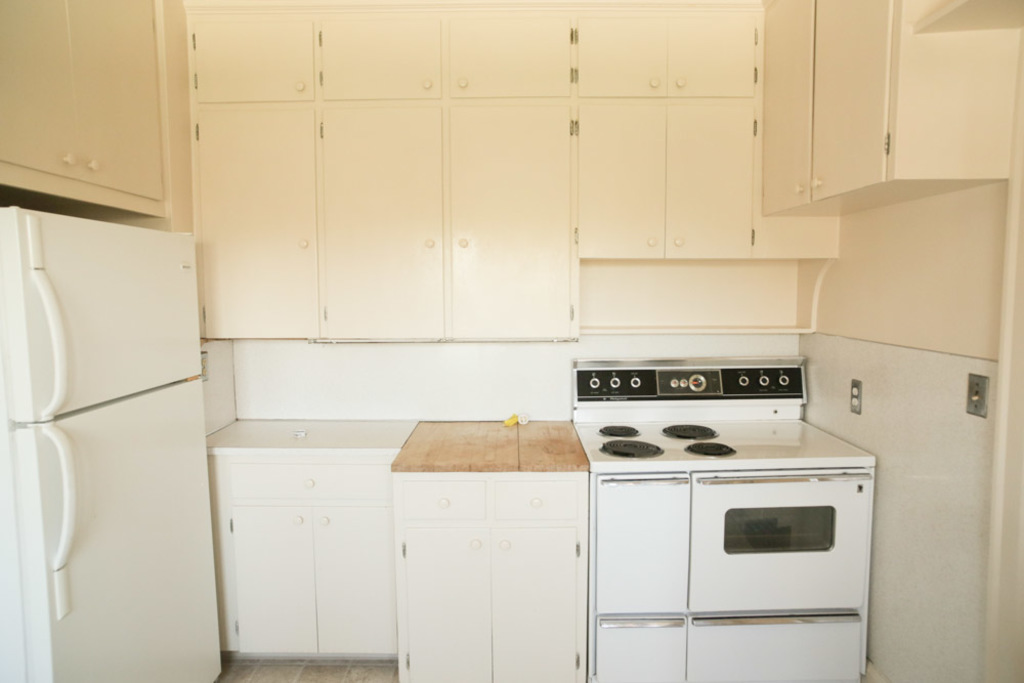cabinet door: (1, 4, 164, 192), (316, 116, 442, 338), (456, 112, 574, 338), (193, 113, 315, 327), (671, 112, 756, 260), (400, 540, 486, 680), (498, 540, 582, 683), (228, 508, 310, 653), (589, 109, 664, 255), (449, 11, 576, 94), (823, 9, 886, 173), (318, 13, 438, 98), (322, 508, 393, 646), (764, 9, 810, 194), (193, 32, 313, 102), (666, 22, 762, 91), (585, 21, 664, 101), (230, 460, 385, 496)
handle: (23, 234, 77, 412), (35, 422, 82, 601), (692, 616, 861, 633), (694, 470, 867, 486), (592, 610, 685, 638), (601, 478, 689, 494), (49, 145, 79, 172), (452, 233, 477, 259), (668, 231, 689, 257), (422, 237, 441, 259), (808, 170, 827, 192), (292, 73, 310, 94), (295, 235, 316, 252), (77, 163, 102, 177), (458, 73, 471, 97), (646, 79, 665, 95), (673, 75, 690, 90), (646, 235, 661, 251), (792, 179, 804, 195), (425, 80, 438, 93)
refrigerator door: (42, 414, 213, 683), (28, 221, 204, 370)
